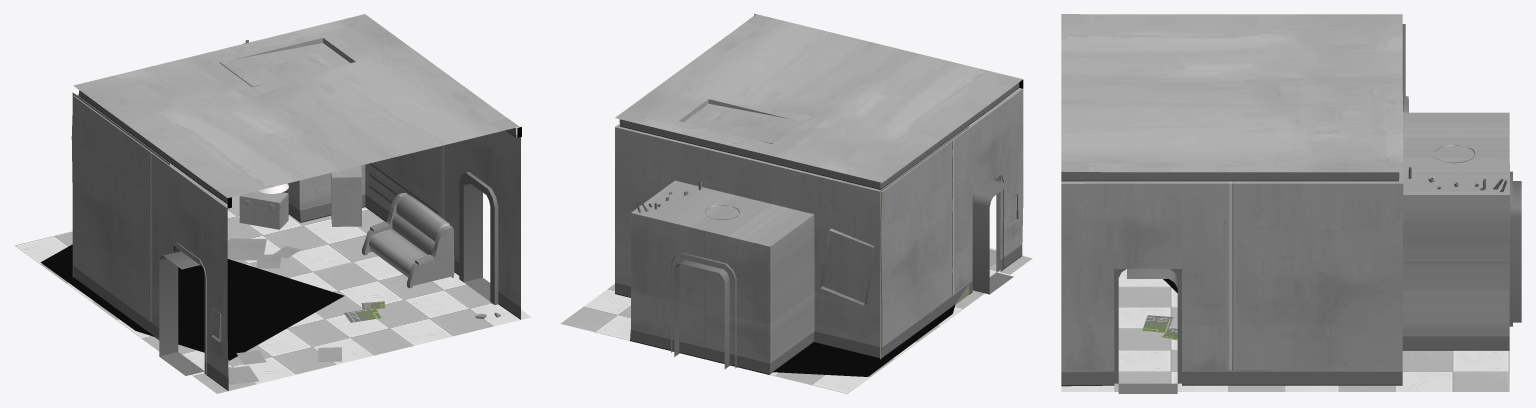
File: MSH_QuestObservatory_L1_R1_optimized.fbx
3 views of the same model, side by side, from view 1: azimuth 30°, elevation 25°; view 2: azimuth 150°, elevation 25°; view 3: azimuth 270°, elevation 25° (orthographic). The views are drawn at different scales.
Visible parts, largest first — view 1: lightmap3, lightmap2, lightmap0, MSH_QuestObservatory_L1_R1_Decals_01, lightmap1; view 2: lightmap3, lightmap2, MSH_QuestObservatory_L1_R1_Decals_01, lightmap0, lightmap1; view 3: lightmap3, lightmap2, lightmap1, lightmap0.
Boxes of the visible parts, <box> form: lightmap3: <box>15,38,530,393</box>; lightmap2: <box>73,14,519,197</box>; lightmap0: <box>159,127,521,375</box>; MSH_QuestObservatory_L1_R1_Decals_01: <box>40,92,344,360</box>; lightmap1: <box>211,40,500,384</box>; lightmap3: <box>560,82,1032,393</box>; lightmap2: <box>615,14,1022,182</box>; MSH_QuestObservatory_L1_R1_Decals_01: <box>773,126,968,376</box>; lightmap0: <box>754,14,1023,294</box>; lightmap1: <box>636,83,1018,368</box>; lightmap3: <box>1061,27,1509,391</box>; lightmap2: <box>1061,14,1403,172</box>; lightmap1: <box>1128,54,1521,339</box>; lightmap0: <box>1114,269,1181,393</box>.
Bounding box in the file's own units: 10.3 × 5.94 × 11.47.
